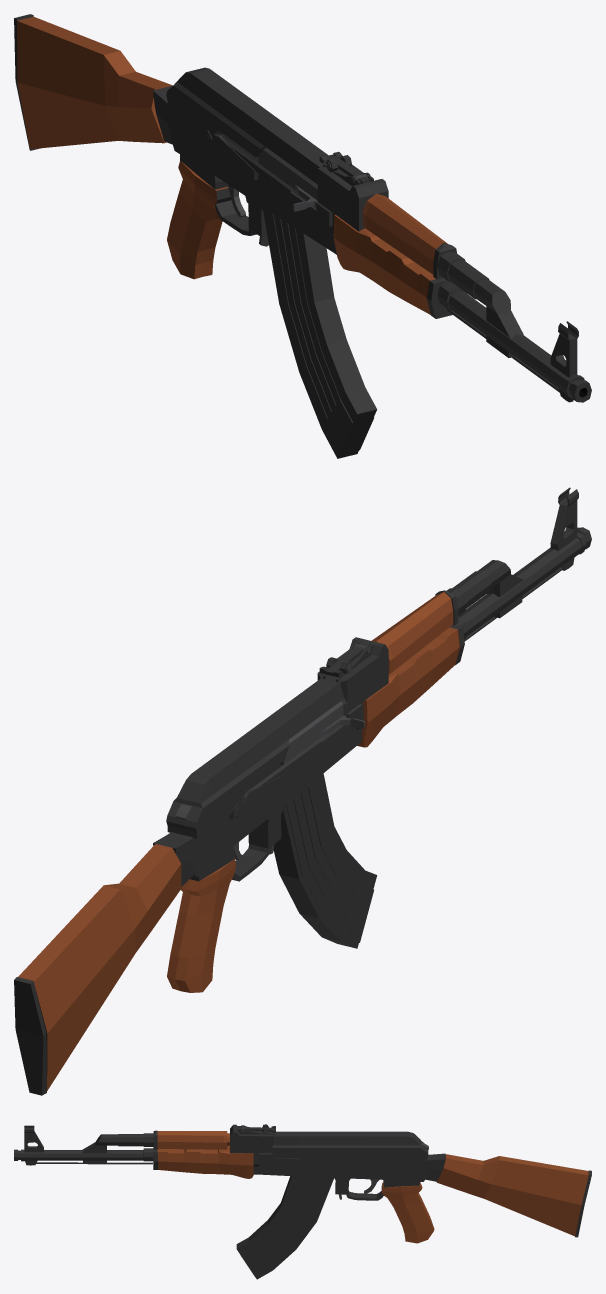
The picture shows the model from 3 angles, top to bottom: view 1: azimuth 30°, elevation 25°; view 2: azimuth 150°, elevation 25°; view 3: azimuth 270°, elevation 25°; orthographic projection. The views are drawn at different scales.
Parts seen in each view (by area): view 1: Ak_47; view 2: Ak_47; view 3: Ak_47.
Part boxes in pixels (box(x1,y1,x2,y2)): Ak_47: box(14, 14, 591, 458); Ak_47: box(14, 487, 591, 1095); Ak_47: box(14, 1124, 591, 1279).
Bounding box in the file's own units: 0.2617 × 1.39 × 4.82.
1 material, 1 textured.
